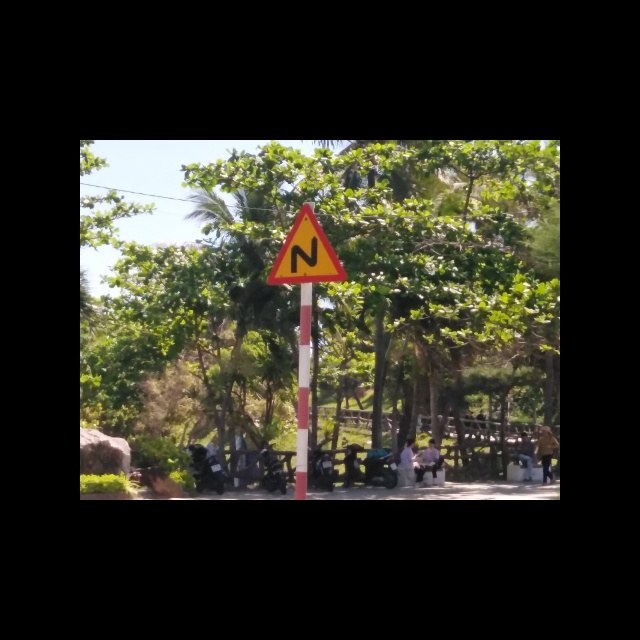Ngoặt nguy hiểm liên tiếp bên phải: (266, 203, 348, 289)
